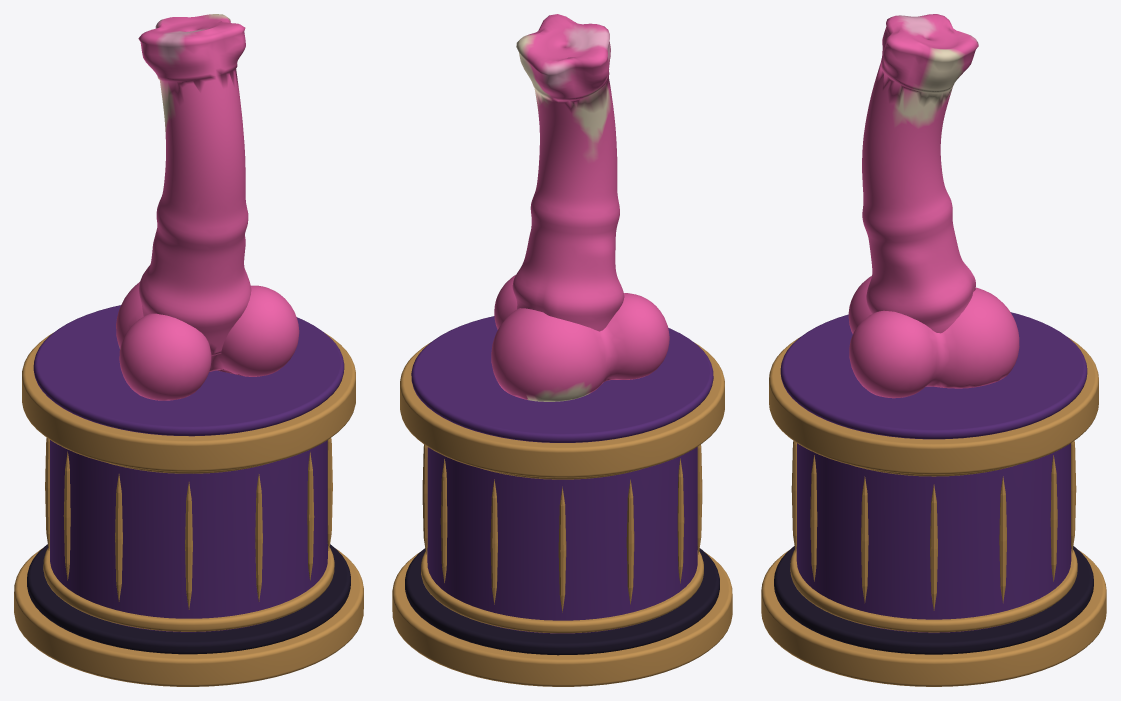
Rendered from knight.glb.
3 renders of one model, left to right at view 1: azimuth 30°, elevation 25°; view 2: azimuth 150°, elevation 25°; view 3: azimuth 270°, elevation 25°, orthographic. The views are drawn at different scales.
Parts seen in each view (by area): view 1: casino_pedestal, knight_original_knight; view 2: casino_pedestal, knight_original_knight; view 3: casino_pedestal, knight_original_knight.
Part boxes in pixels (bbox=[...]): casino_pedestal: bbox=[14, 305, 363, 686]; knight_original_knight: bbox=[116, 14, 299, 400]; casino_pedestal: bbox=[392, 316, 732, 686]; knight_original_knight: bbox=[491, 14, 669, 401]; casino_pedestal: bbox=[761, 312, 1106, 686]; knight_original_knight: bbox=[848, 14, 1019, 398].
Size of the model in its own units: 0.68 by 1.28 by 0.68.
